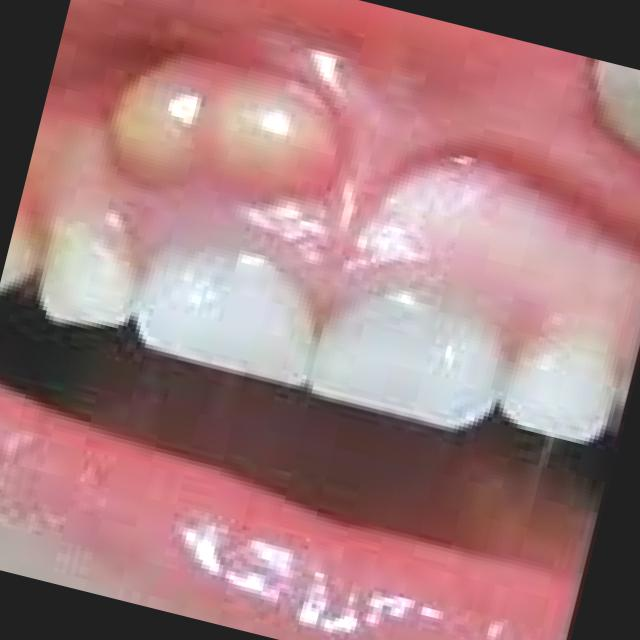abscess: (179, 44, 419, 268), (68, 33, 218, 211)
